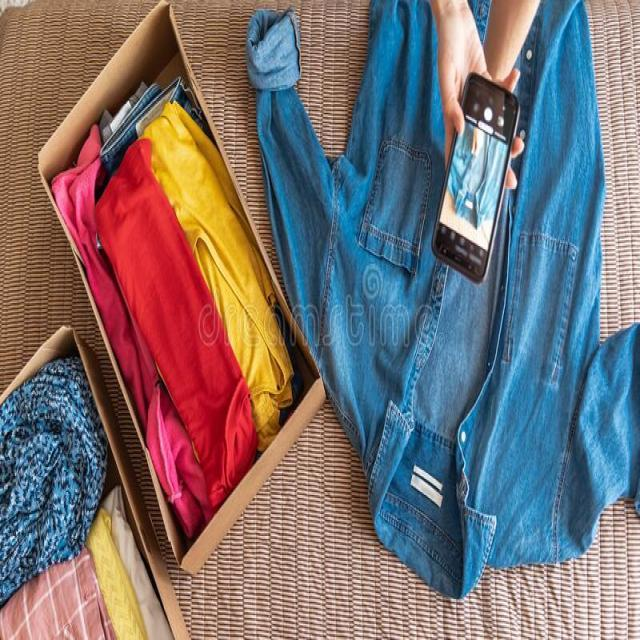clothes: (250, 14, 443, 542), (430, 0, 590, 594), (72, 128, 243, 460), (2, 397, 106, 640), (523, 326, 640, 540)
